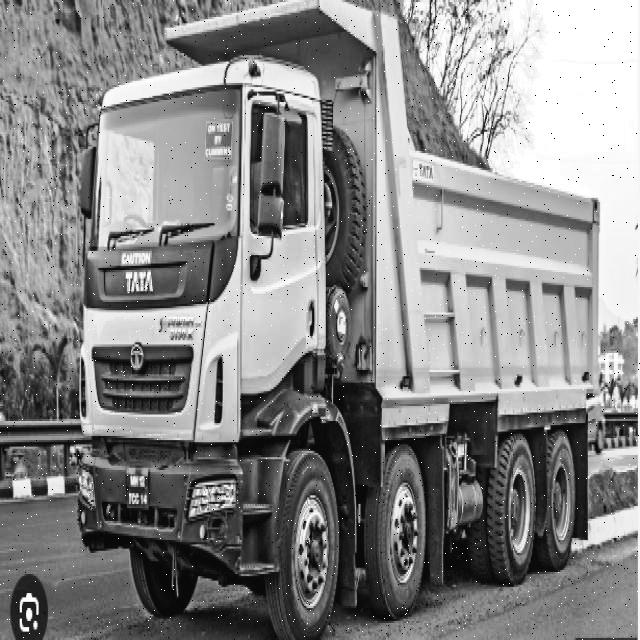HCV: (67, 8, 612, 627)
